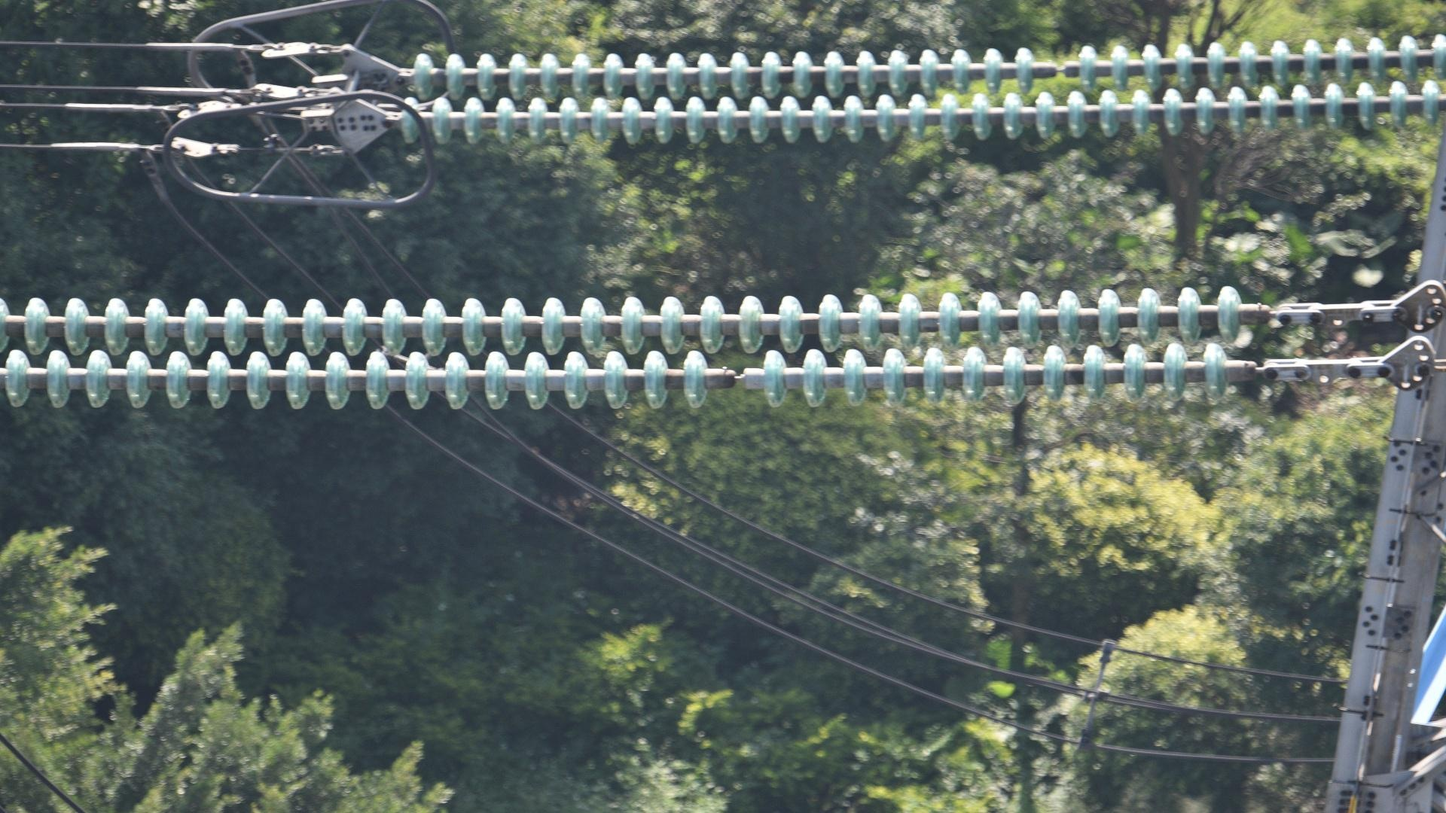insulator: (1, 282, 1250, 416), (392, 28, 1446, 152)
